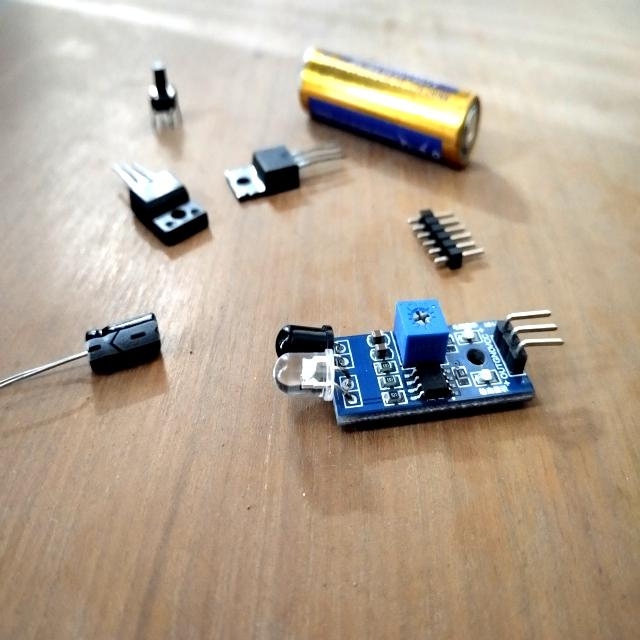capacitor: (0, 319, 166, 424)
